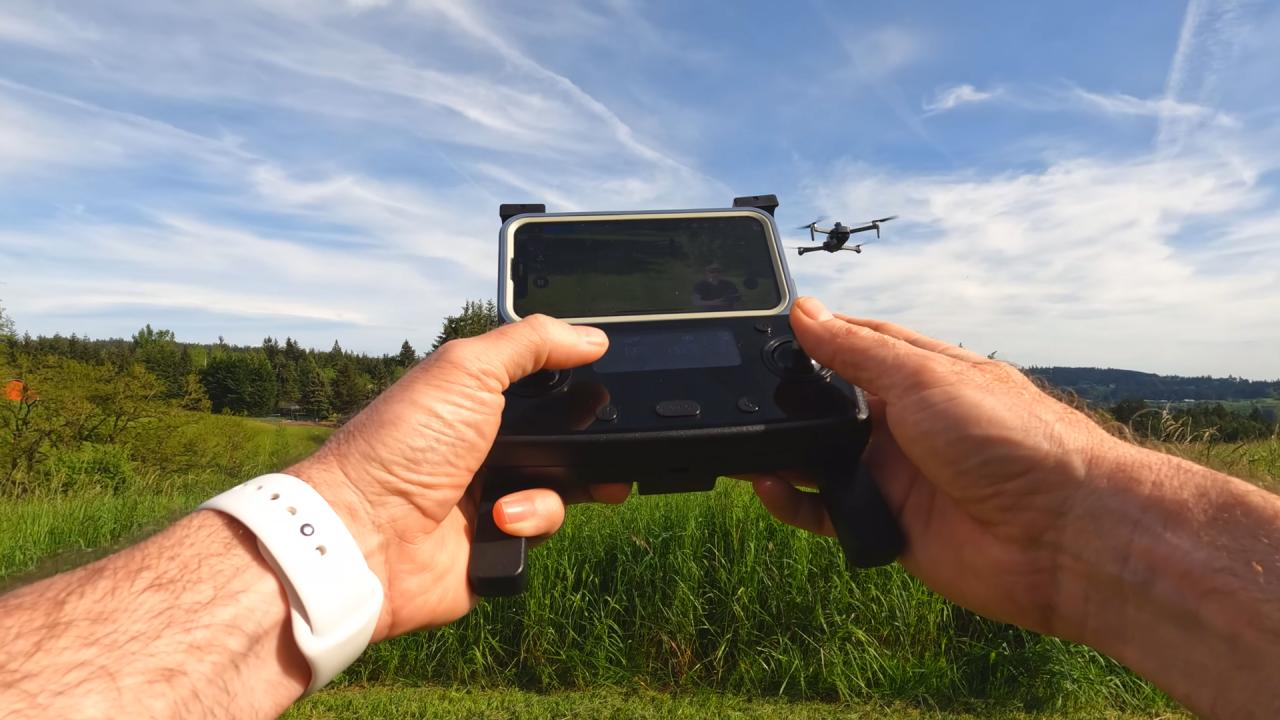Drone: (788, 207, 906, 266)
